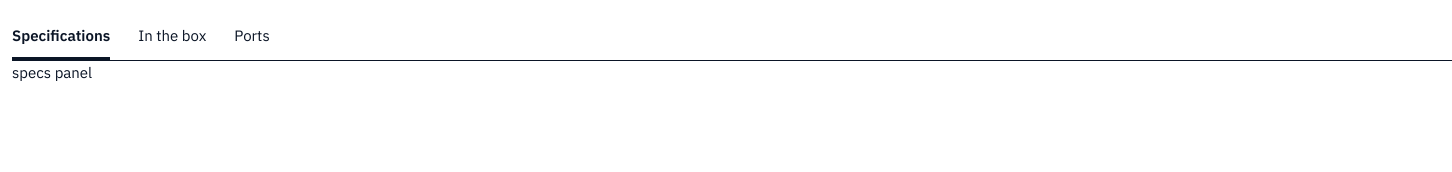
Test: shows the panel of the clicked tab
Click the tab "In the box" at (172, 36), box [138,12,206,60]
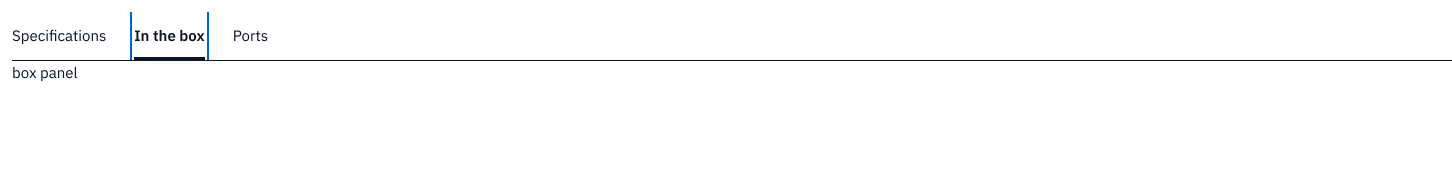
Check: the panel named "In the box" reads "box panel", box [12,63,78,82]
